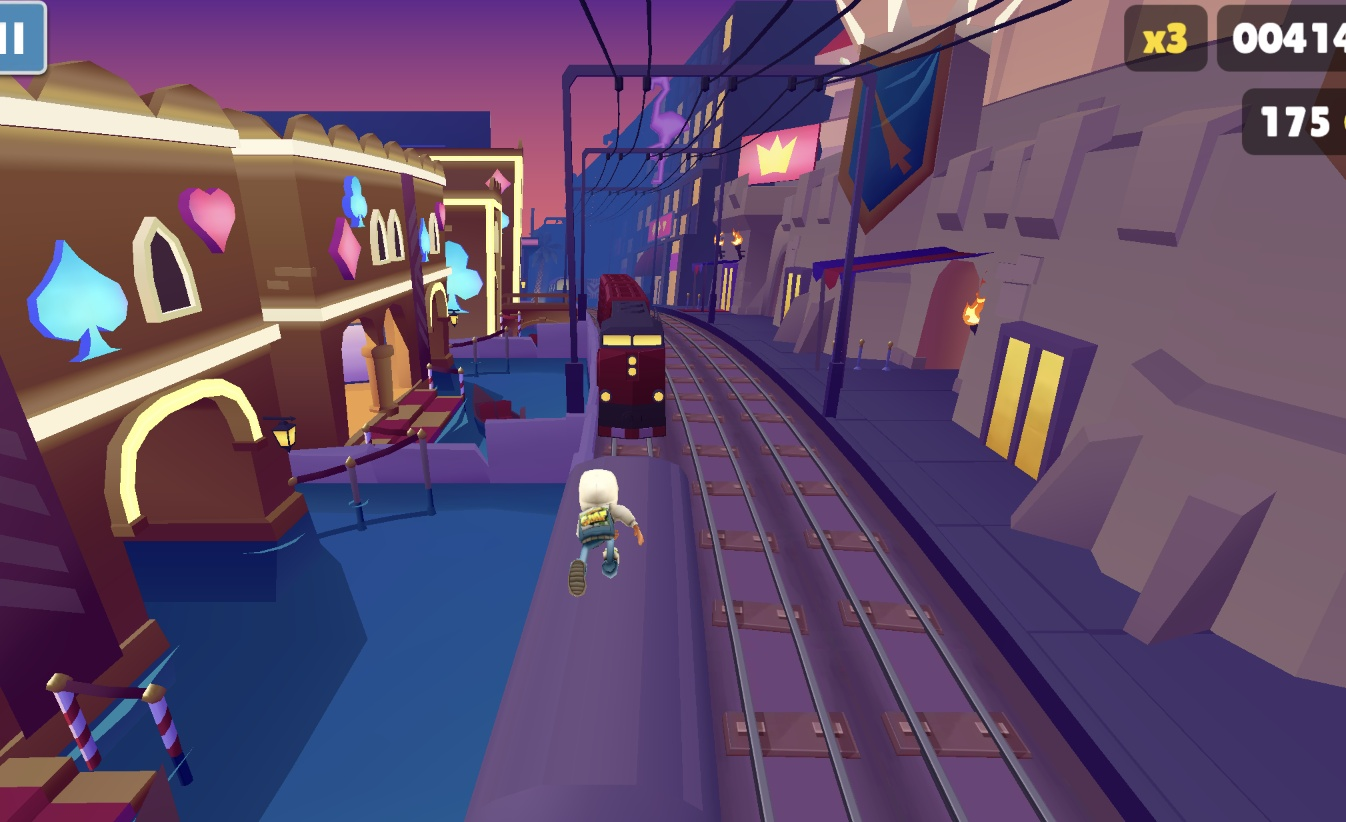train: (464, 453, 750, 822), (595, 302, 670, 441), (597, 275, 654, 328)
